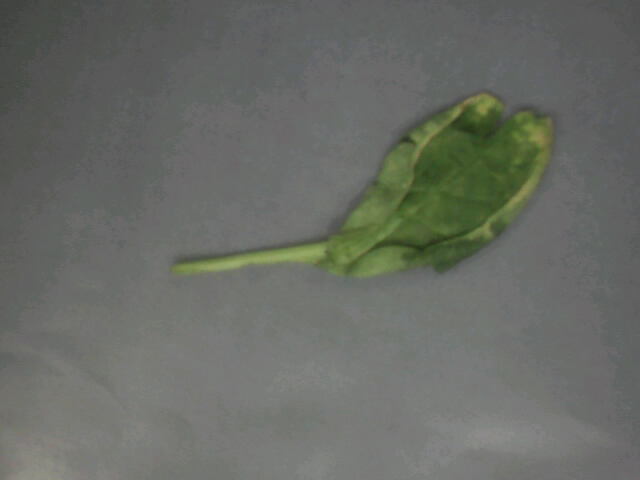yellow: (302, 92, 554, 300)
